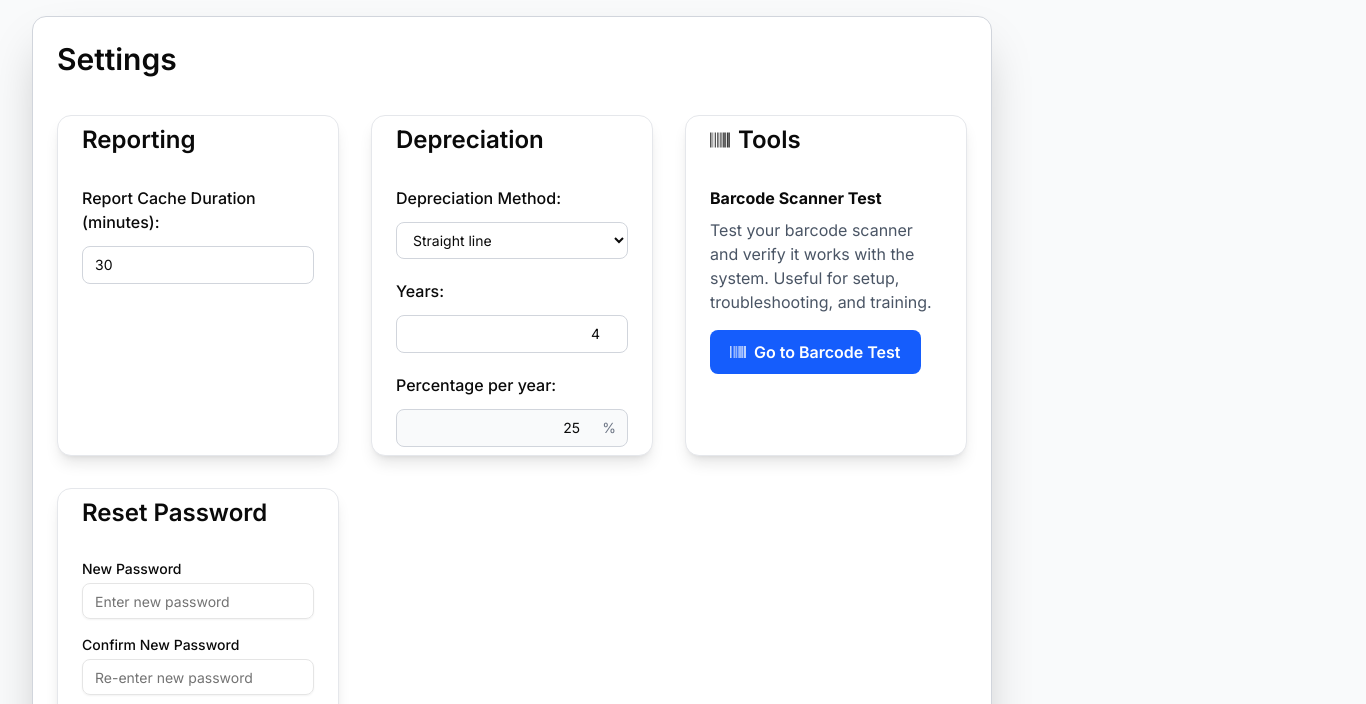
SettingsPage › shows warning if declining percents do not total 100
Expected: the text "Depreciation" is shown, [396,125,544,154]
Select "Declining balance" in the dropdown labelled "Depreciation Method:" at point(512, 240), box [396,222,628,259]
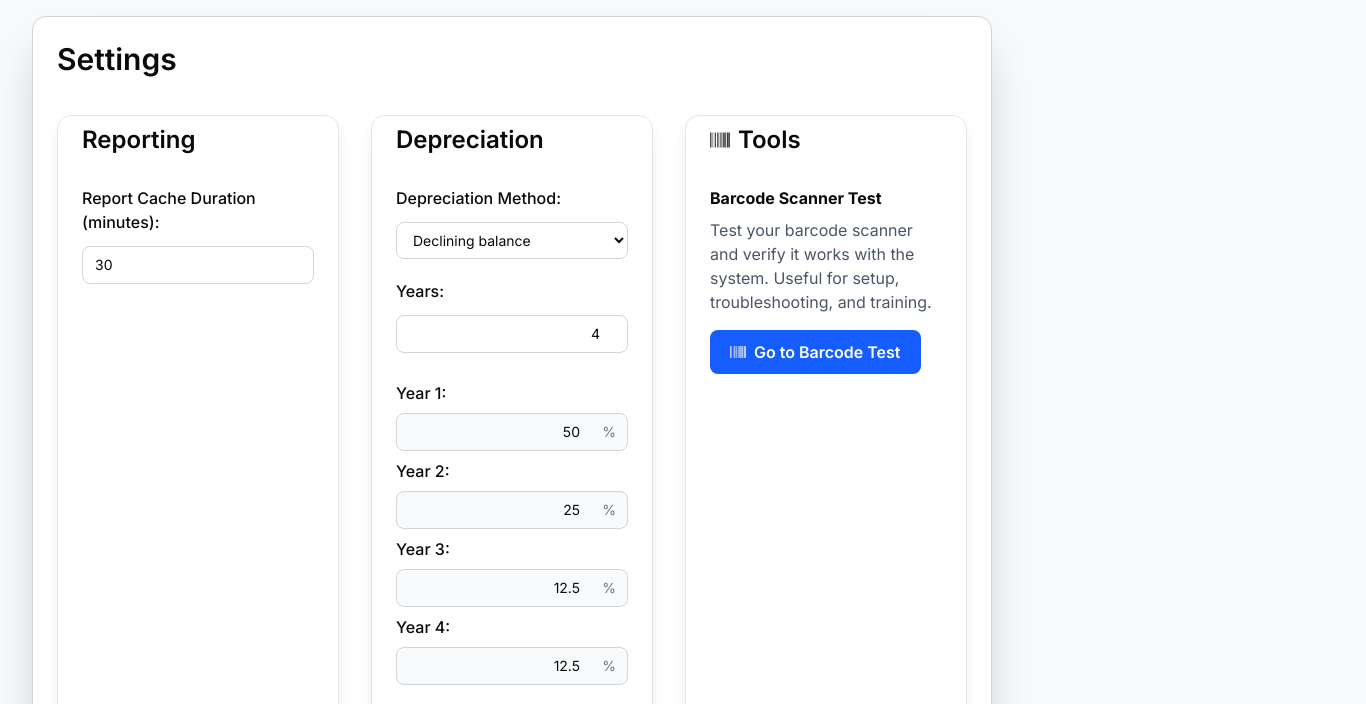
# Now we can use getByLabelText since we have proper label associations
Replace the text in the number field labelled "Year 1:" with "10" at point(512, 432), box [396,413,628,451]
(page scrolled)
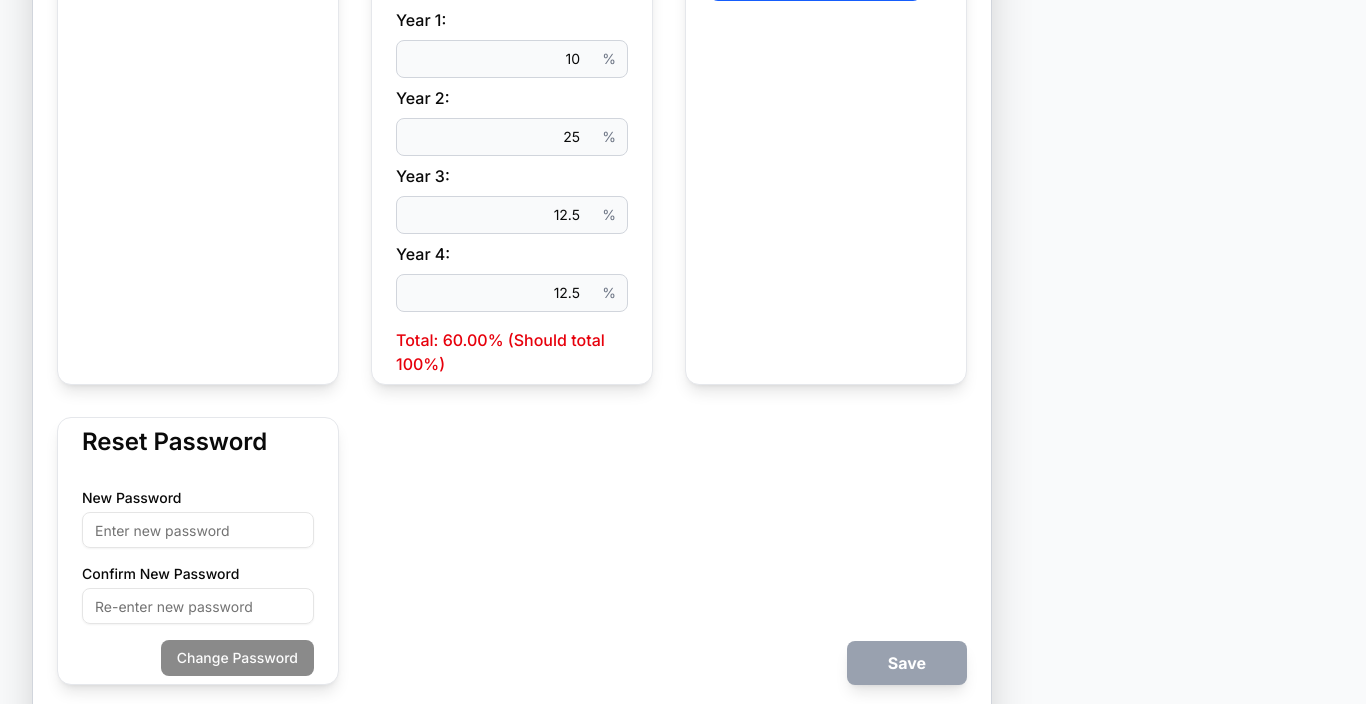
Now the text "Total: 60.00% (Should total 100%)" is shown, box [396,328,628,376]
